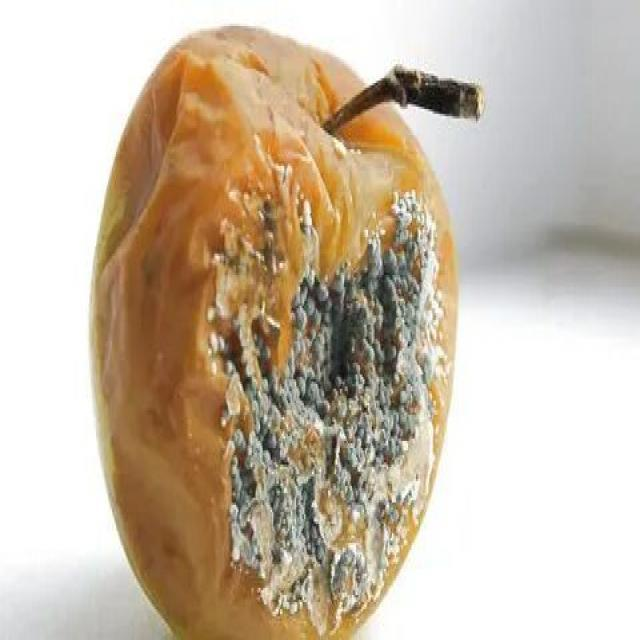Rotten: (125, 67, 457, 633)
